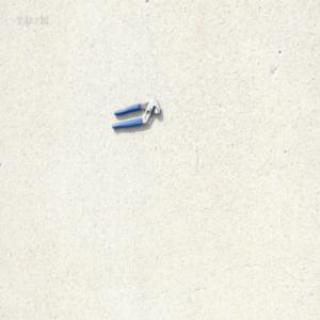Pliertrack_idkeyframe: (110, 96, 161, 130)
